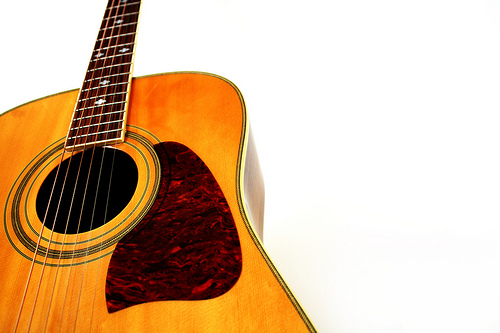guitar: (4, 1, 317, 332)
